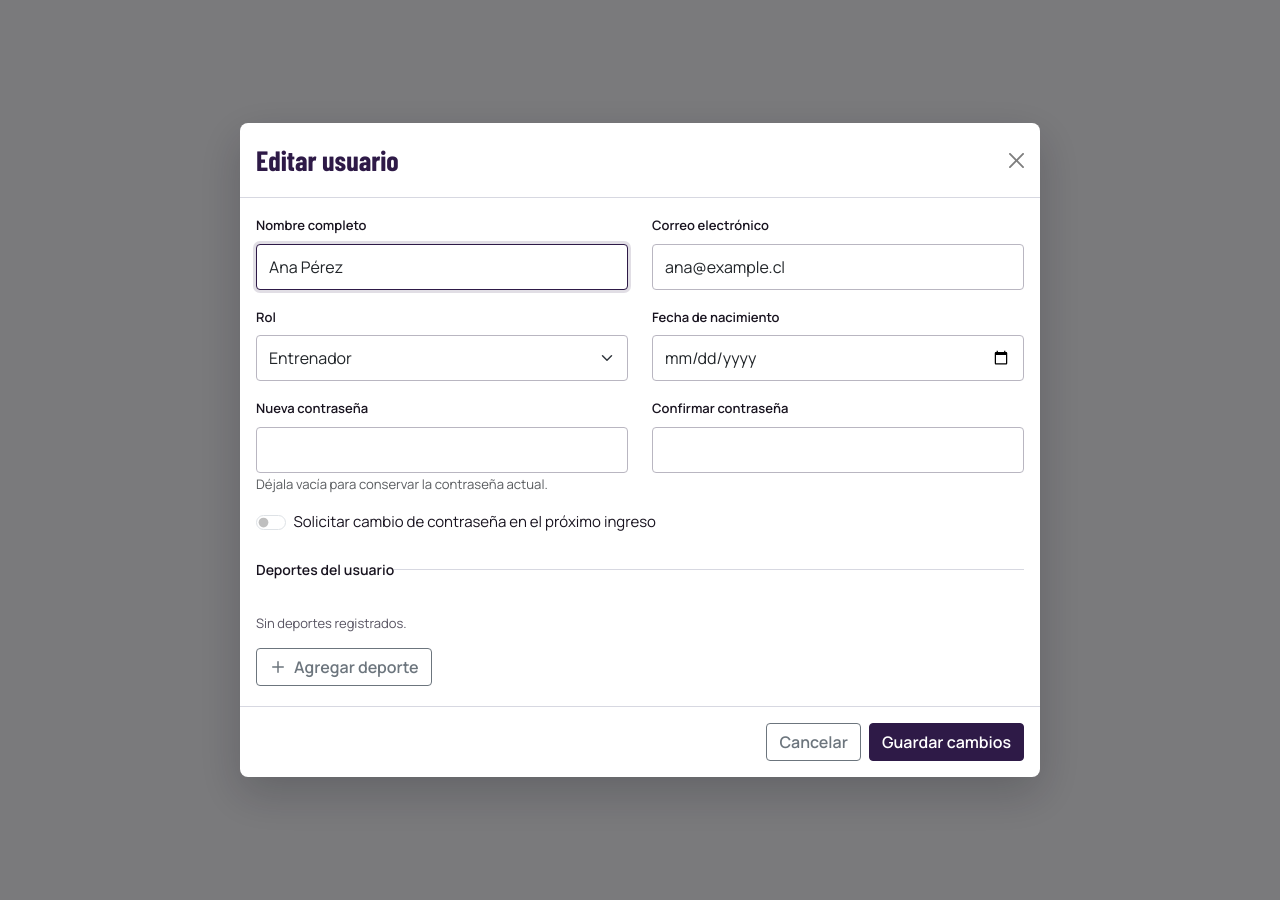
Test case: UserFormModal › keeps the modal open and maps backend errors to the form
This screenshot has width=1280, height=900.
Step 1. Click the button "Guardar cambios" → (946, 742), box [869,723,1024,761]
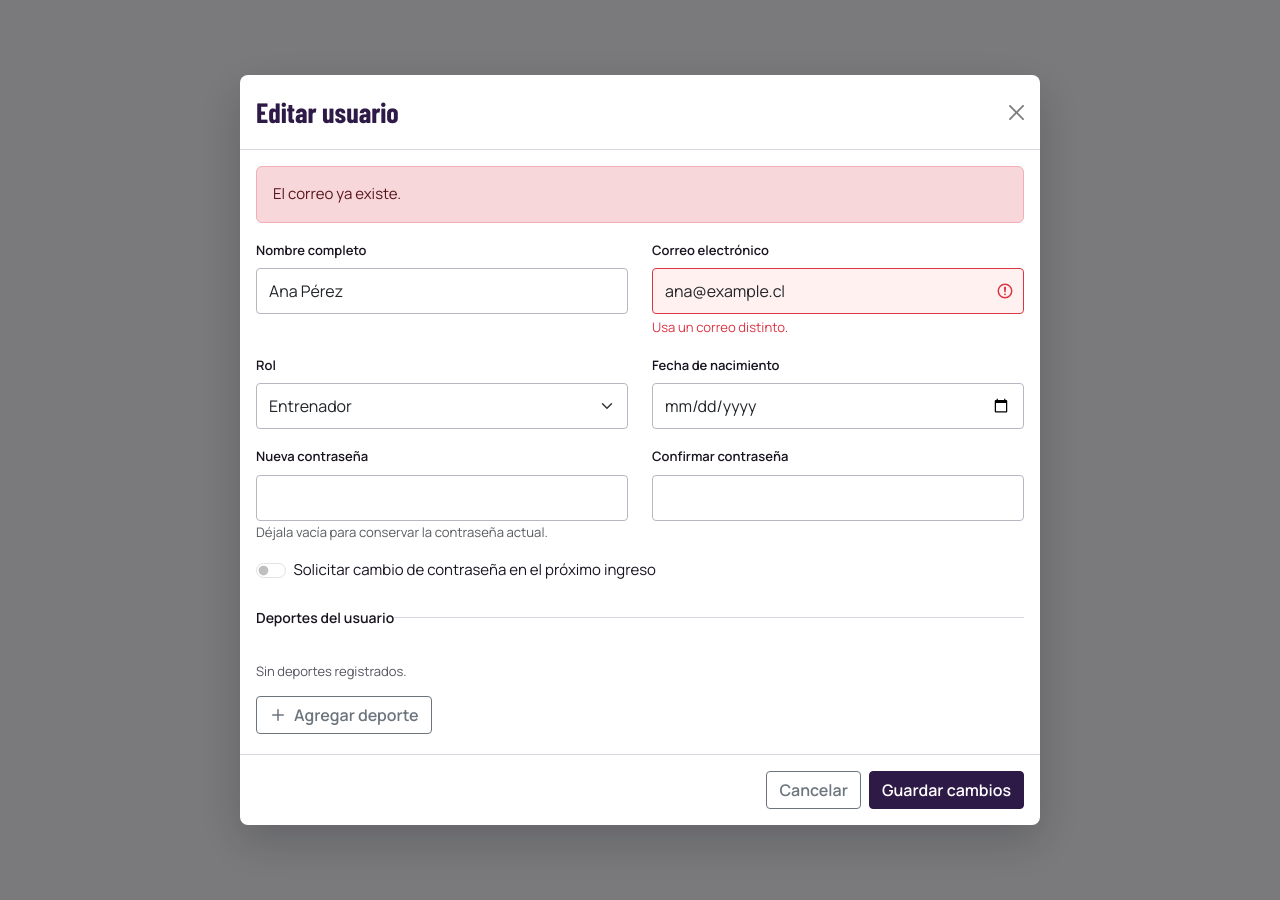
Expected: the dialog is shown, [240,75,1040,825]
Now the message reads "El correo ya existe.", box [273,183,401,204]
Now the text "Usa un correo distinto." is shown, box [652,318,788,336]
